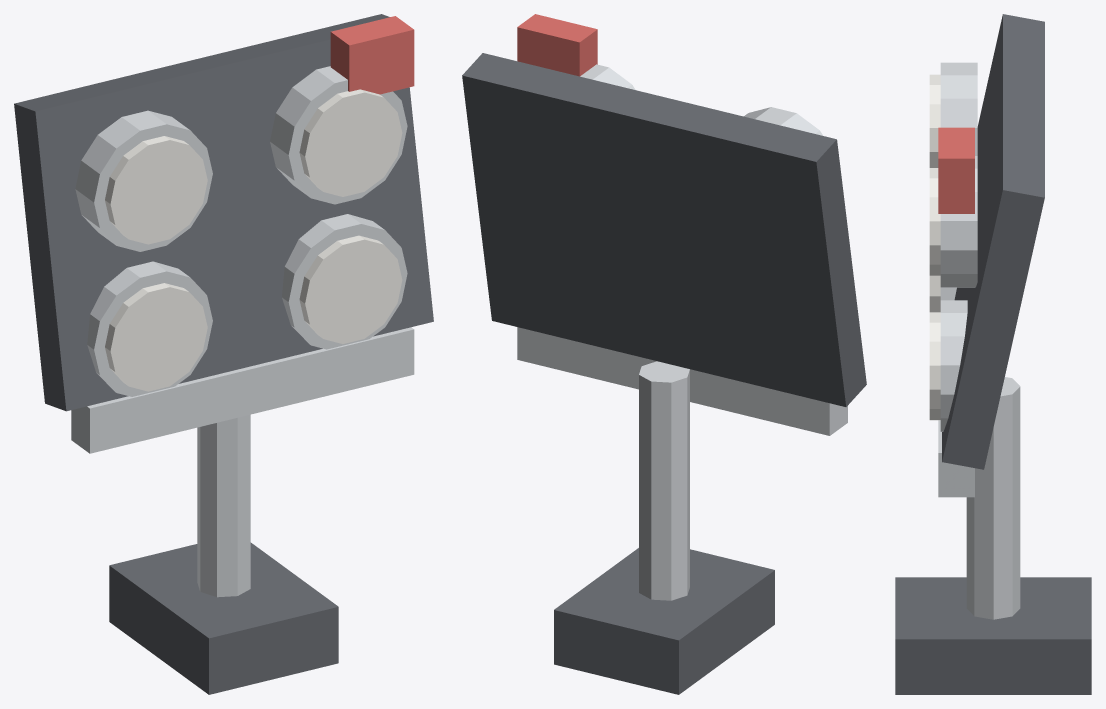
Rendered from hot-air-balloon-festival-balloon-flight-instrument-pan-0d2fed62__38501.glb.
3 views of the same model, side by side, from view 1: azimuth 30°, elevation 25°; view 2: azimuth 150°, elevation 25°; view 3: azimuth 270°, elevation 25° (orthographic). The views are drawn at different scales.
Visible parts, largest first — view 1: balloon-flight-instrument-panel-charcoal, balloon-flight-instrument-panel-steel, balloon-flight-instrument-panel-canvasB, balloon-flight-instrument-panel-canvasA; view 2: balloon-flight-instrument-panel-charcoal, balloon-flight-instrument-panel-steel, balloon-flight-instrument-panel-canvasA; view 3: balloon-flight-instrument-panel-charcoal, balloon-flight-instrument-panel-steel, balloon-flight-instrument-panel-canvasB, balloon-flight-instrument-panel-canvasA.
Part boxes in pixels (box(x1,y1,x2,y2)): balloon-flight-instrument-panel-charcoal: box(14, 14, 433, 694); balloon-flight-instrument-panel-steel: box(71, 66, 414, 597); balloon-flight-instrument-panel-canvasB: box(105, 89, 402, 391); balloon-flight-instrument-panel-canvasA: box(330, 16, 414, 94); balloon-flight-instrument-panel-charcoal: box(462, 53, 866, 694); balloon-flight-instrument-panel-steel: box(517, 64, 847, 600); balloon-flight-instrument-panel-canvasA: box(517, 14, 597, 76); balloon-flight-instrument-panel-charcoal: box(895, 14, 1091, 694); balloon-flight-instrument-panel-steel: box(938, 62, 1020, 619); balloon-flight-instrument-panel-canvasB: box(929, 74, 940, 420); balloon-flight-instrument-panel-canvasA: box(938, 127, 974, 213).
Bounding box in the file's own units: 0.34 × 0.525 × 0.16.
